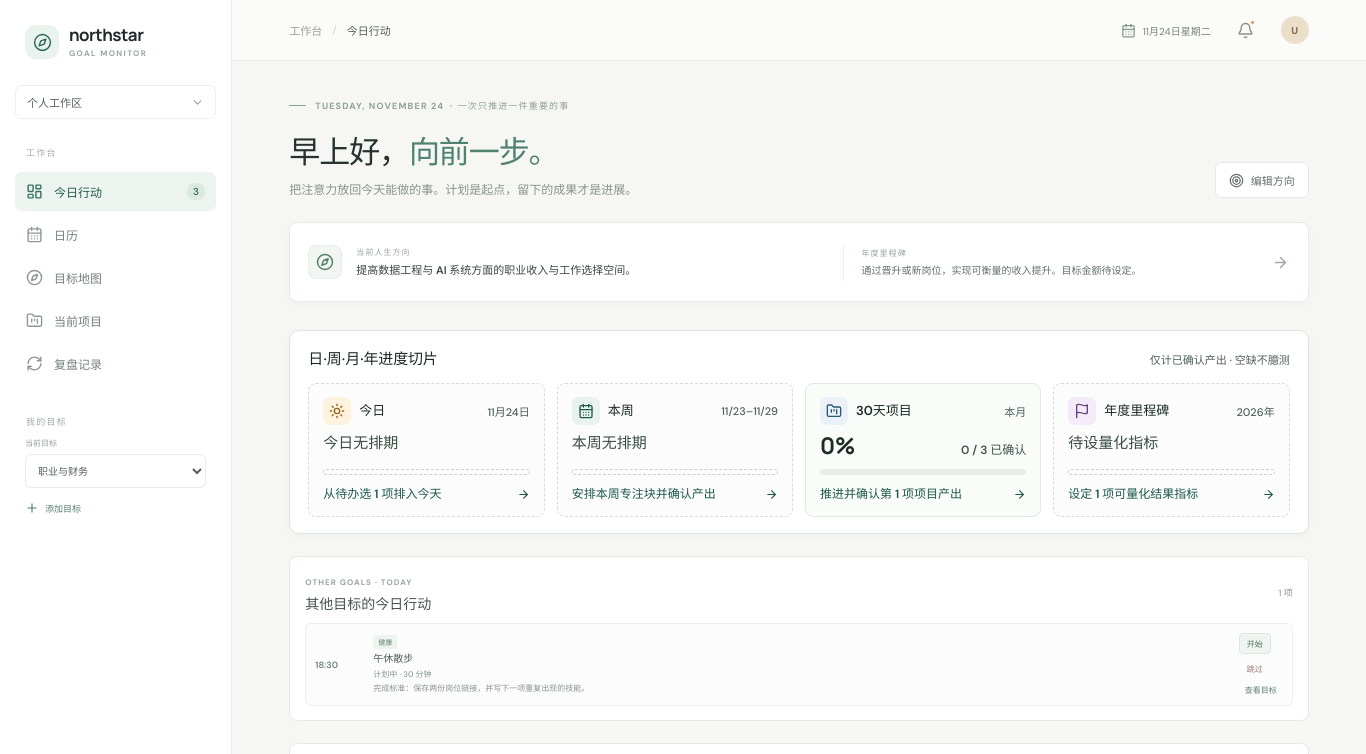
Goal Monitor first-run flows › shows a combined weekly calendar agenda and opens the owning goal
This screenshot has width=1366, height=754.
Click the button "日历".
click(116, 234)  # box left=15, top=215, right=216, bottom=254
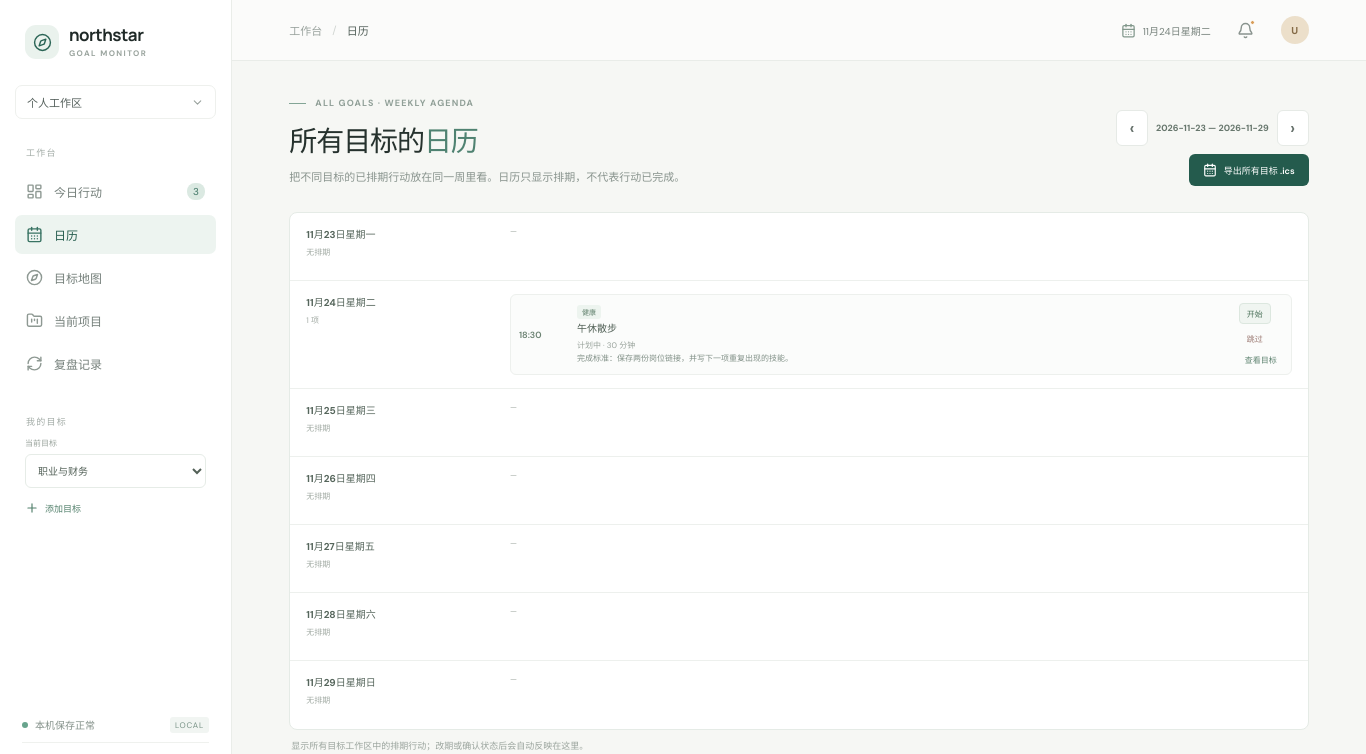
Expected: the text "午休散步" is shown, left=577, top=322, right=617, bottom=335
Expected: the text "ALL GOALS · WEEKLY AGENDA" is shown, left=315, top=97, right=474, bottom=109
Click the button "查看目标".
click(1261, 360)  # box left=1239, top=354, right=1283, bottom=366
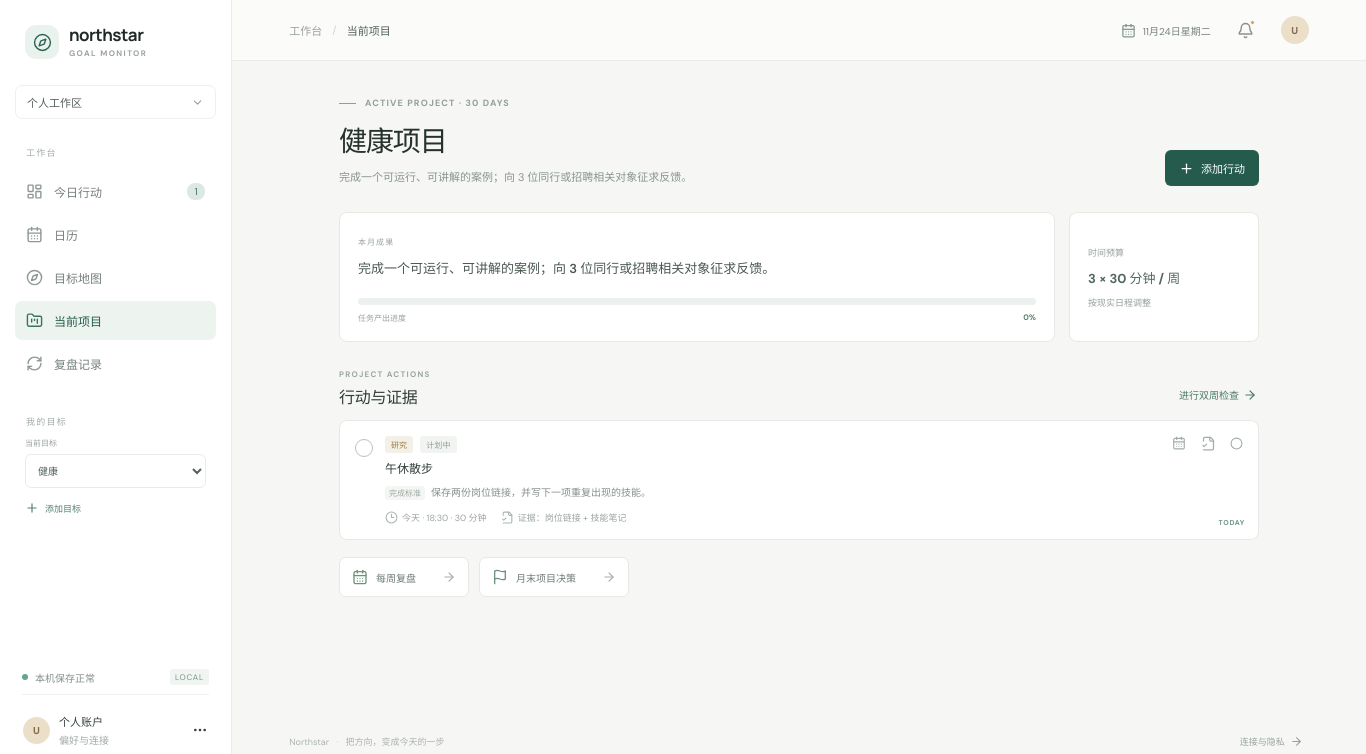
Expected: the dropdown named "切换目标" shows "健康", left=25, top=454, right=206, bottom=488
Expected: the heading "健康项目" is shown, left=339, top=121, right=447, bottom=159
